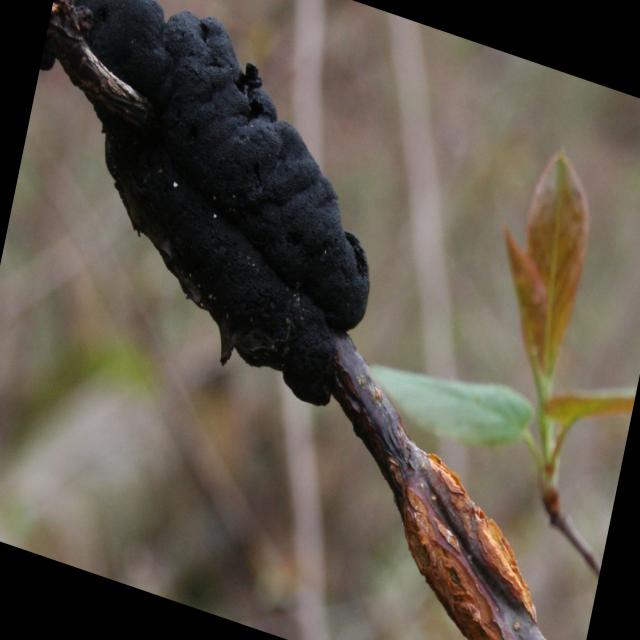Black_knot: (46, 1, 372, 408)
